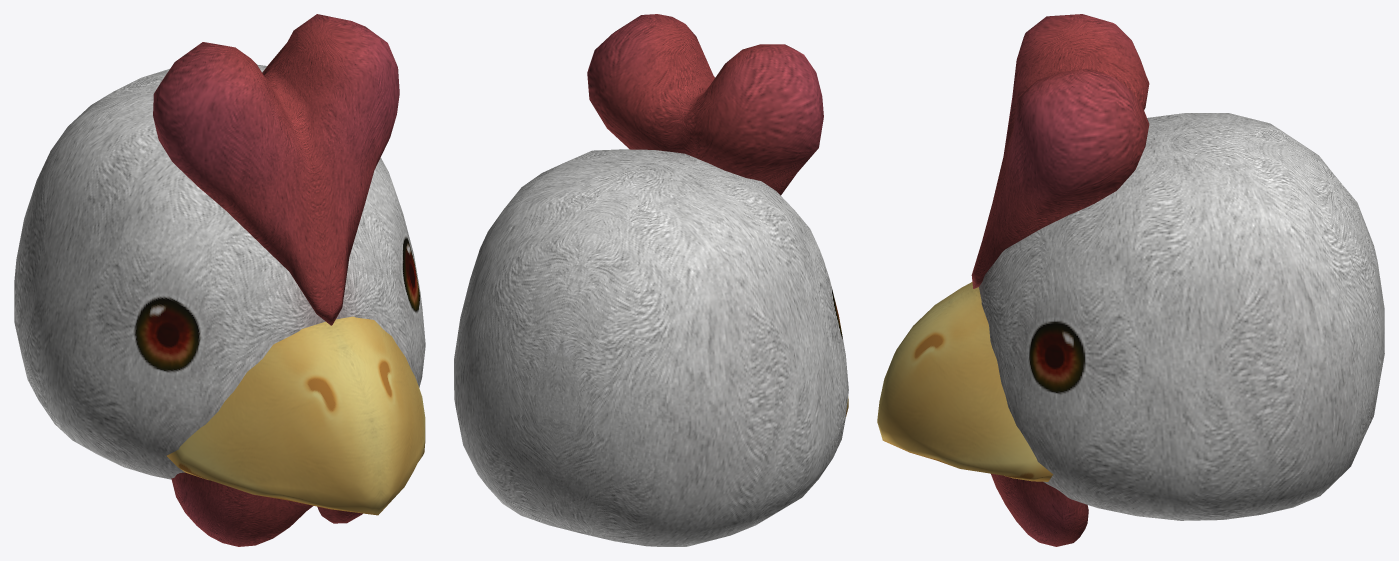
Rendered from CRT0110013.FBX.
The picture shows the model from 3 angles, left to right: view 1: azimuth 30°, elevation 25°; view 2: azimuth 150°, elevation 25°; view 3: azimuth 270°, elevation 25°; orthographic projection. The views are drawn at different scales.
Parts seen in each view (by area): view 1: smCRT0110013; view 2: smCRT0110013; view 3: smCRT0110013.
Part boxes in pixels (bbox=[...]): smCRT0110013: bbox=[14, 14, 425, 546]; smCRT0110013: bbox=[454, 14, 848, 546]; smCRT0110013: bbox=[877, 14, 1384, 546].
Size of the model in its own units: 0.0485 by 0.0643 by 0.0625.
Materials: 1 (1 with a texture image).
